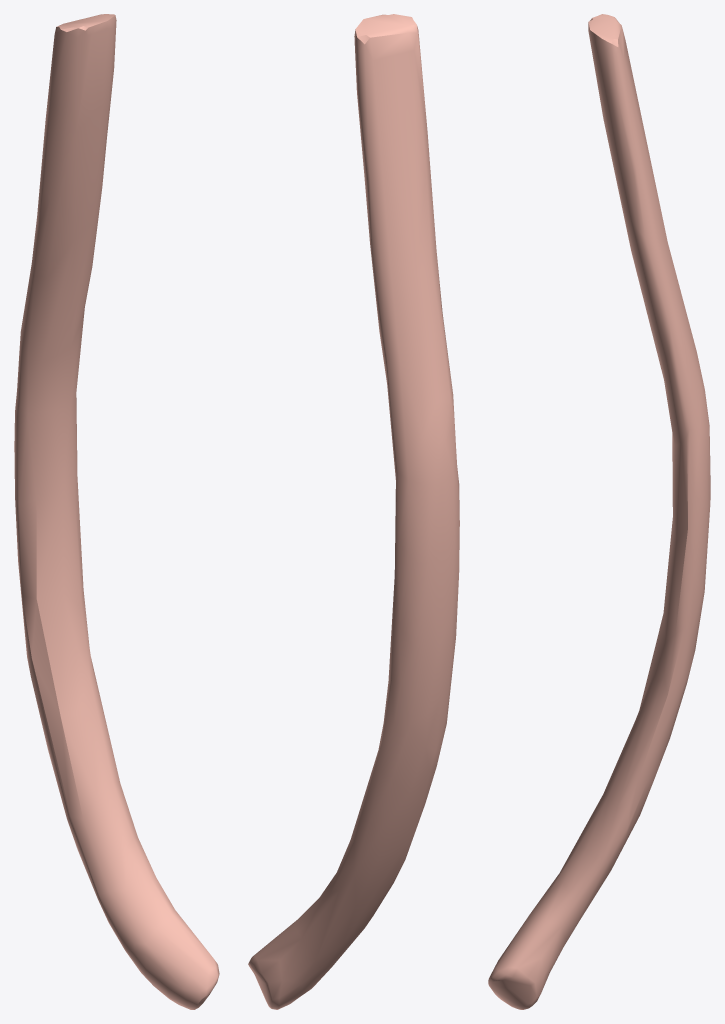
The model's file is esophagus.glb.
The picture shows the model from 3 angles, left to right: view 1: azimuth 30°, elevation 25°; view 2: azimuth 210°, elevation 25°; view 3: azimuth 270°, elevation 25°; orthographic projection. The views are drawn at different scales.
Parts seen in each view (by area): view 1: FJ2563; view 2: FJ2563; view 3: FJ2563.
Boxes of the visible parts, box(x1,y1,x2,y2) form: FJ2563: box(14, 14, 219, 1009); FJ2563: box(248, 14, 459, 1009); FJ2563: box(488, 14, 710, 1009).
Bounding box in the file's own units: 0.3189 × 2.7 × 0.5695.
